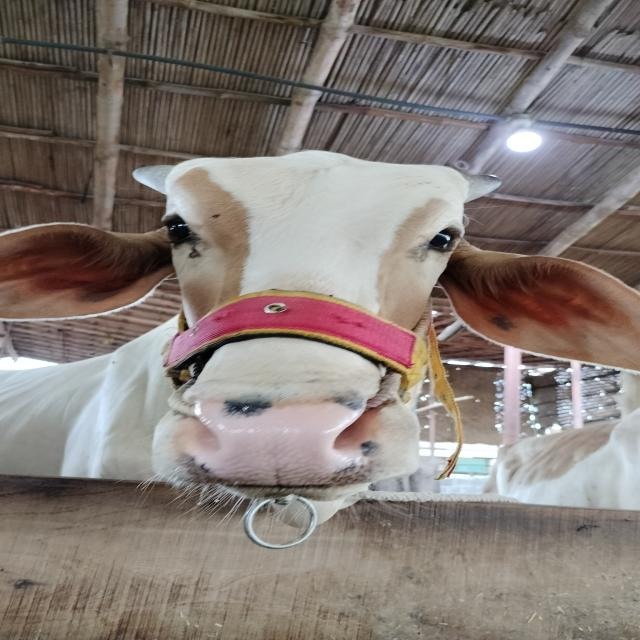muzzles: (168, 384, 390, 492)
